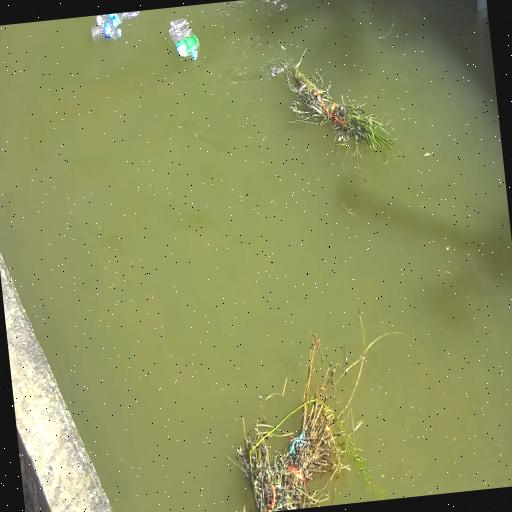plastic: (168, 18, 198, 59), (96, 11, 138, 27), (90, 22, 120, 42)
twig: (238, 310, 402, 512), (272, 50, 393, 154)
